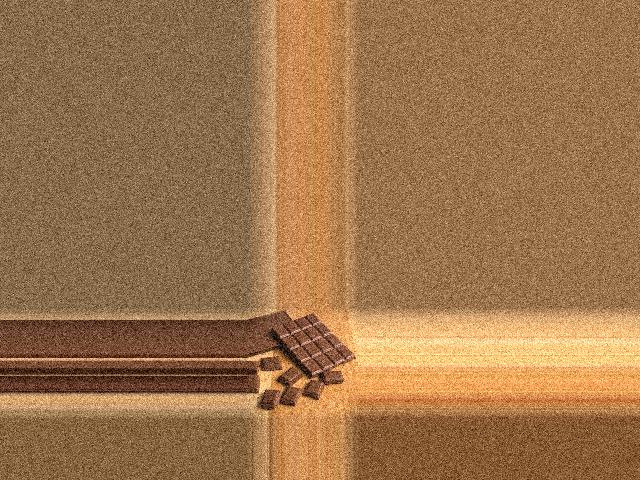chocolate: (271, 313, 352, 381)
